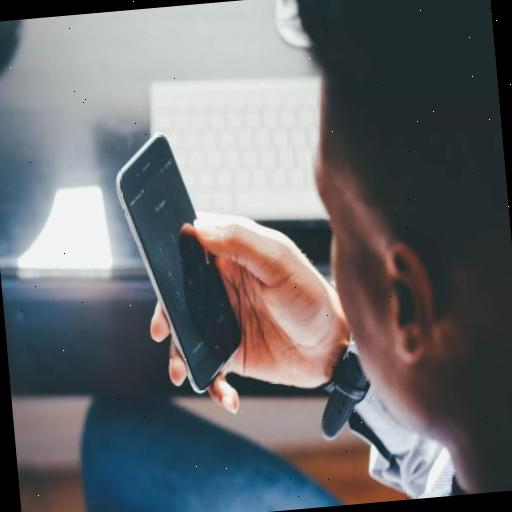phone: (116, 150, 250, 396)
